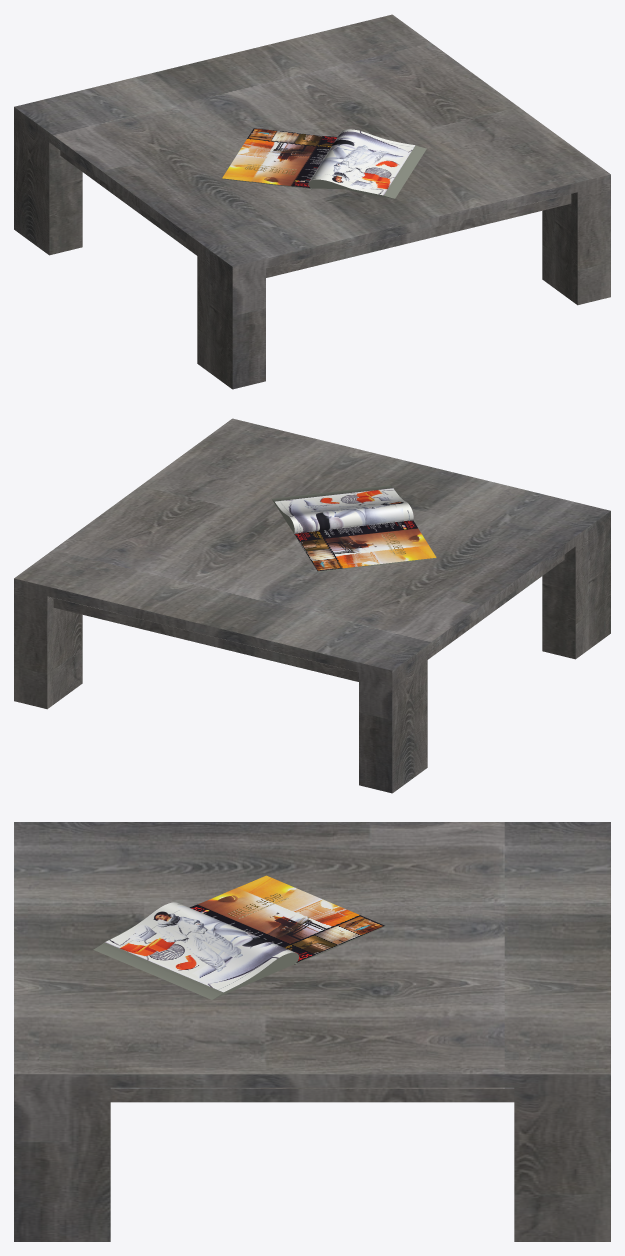
Rendered from LivingRoomTable.obj.
3 renders of one model, top to bottom at view 1: azimuth 30°, elevation 25°; view 2: azimuth 150°, elevation 25°; view 3: azimuth 270°, elevation 25°, orthographic. The views are drawn at different scales.
Parts seen in each view (by area): view 1: Mesh2 Component_7_1 Model, Mesh1 tijdschrift1 Component_7_1 Model; view 2: Mesh2 Component_7_1 Model, Mesh1 tijdschrift1 Component_7_1 Model; view 3: Mesh2 Component_7_1 Model, Mesh1 tijdschrift1 Component_7_1 Model.
Part boxes in pixels (left/top/right/bottom): Mesh2 Component_7_1 Model: left=14, top=14, right=610, bottom=389; Mesh1 tijdschrift1 Component_7_1 Model: left=222, top=128, right=426, bottom=198; Mesh2 Component_7_1 Model: left=14, top=418, right=610, bottom=793; Mesh1 tijdschrift1 Component_7_1 Model: left=271, top=485, right=436, bottom=571; Mesh2 Component_7_1 Model: left=14, top=822, right=610, bottom=1241; Mesh1 tijdschrift1 Component_7_1 Model: left=93, top=875, right=385, bottom=999.
Bounding box in the file's own units: 0.9621 × 0.3237 × 0.9621.
Materials: 4 (3 with a texture image).
